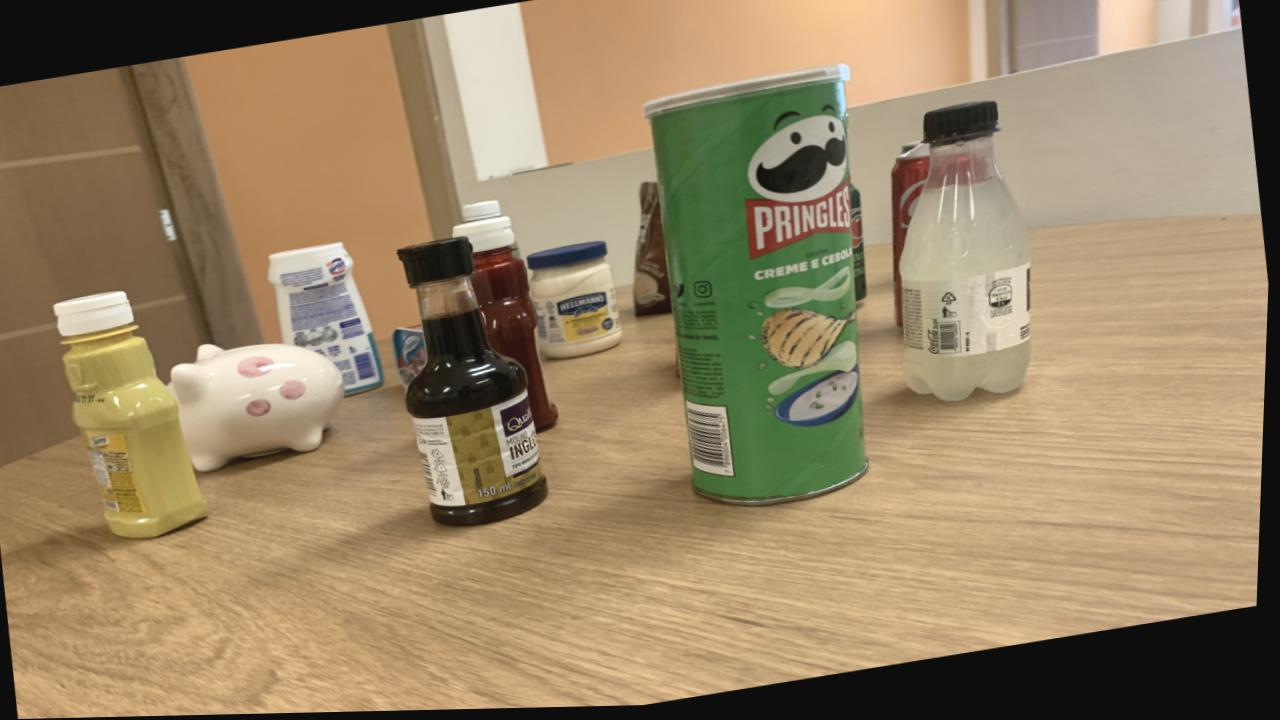Cleaner-Cleanup_Items: (269, 243, 387, 396)
Coffee-Pantry_Items: (635, 184, 674, 319)
Coke-Drinks: (891, 145, 931, 330)
English_Sauce-Pantry_Items: (399, 238, 552, 528)
Guarana-Drinks: (462, 202, 503, 224)
Guarana_Can-Drinks: (850, 189, 870, 305)
Ketchup-Pantry_Items: (457, 218, 562, 434)
Mayonnaise-Pantry_Items: (529, 242, 624, 361)
Mustard-Pantry_Items: (56, 291, 211, 538)
Pig_Safe-Miscellaneous: (171, 344, 349, 472), (288, 259, 293, 261)
Pringles-Snacks: (646, 69, 871, 508)
Soda-Drinks: (901, 107, 1034, 405)
Tuna_Can-Pantry_Items: (393, 329, 429, 389)
